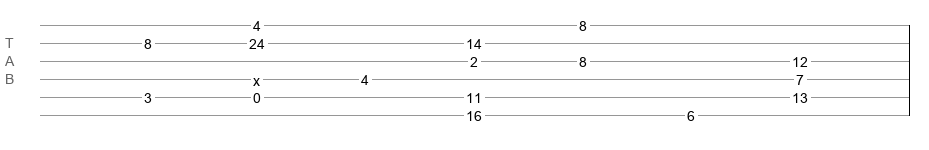0: (253, 90, 261, 100)
11: (466, 90, 482, 100)
12: (792, 54, 808, 64)
13: (792, 90, 808, 100)
14: (466, 36, 482, 46)
16: (466, 108, 482, 118)
2: (470, 54, 478, 64)
24: (249, 36, 265, 46)
3: (144, 90, 152, 100)
4: (253, 18, 261, 28), (361, 72, 369, 82)
6: (687, 108, 695, 118)
7: (796, 72, 804, 82)
8: (144, 36, 152, 46), (579, 18, 587, 28), (579, 54, 587, 64)
x: (253, 73, 260, 81)
